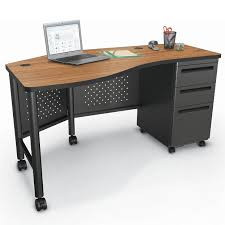desk: (1, 30, 224, 222)
